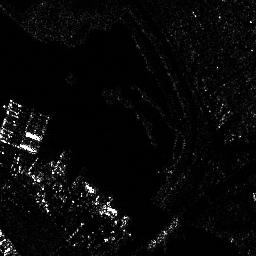ship: (148, 217, 179, 248)
